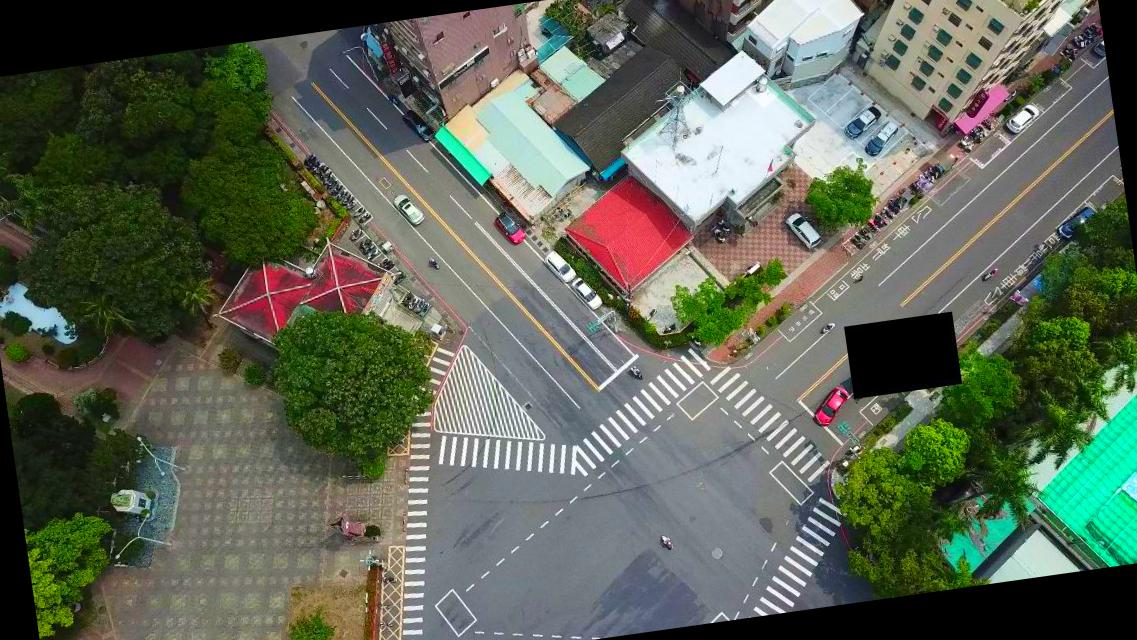vehicle: (810, 386, 854, 426), (784, 210, 822, 252), (861, 120, 901, 158), (1054, 207, 1098, 241), (840, 106, 884, 140), (491, 210, 528, 248), (542, 247, 578, 284), (402, 107, 436, 144), (1004, 104, 1042, 136), (570, 275, 602, 313), (392, 192, 425, 227), (1092, 40, 1104, 58)
